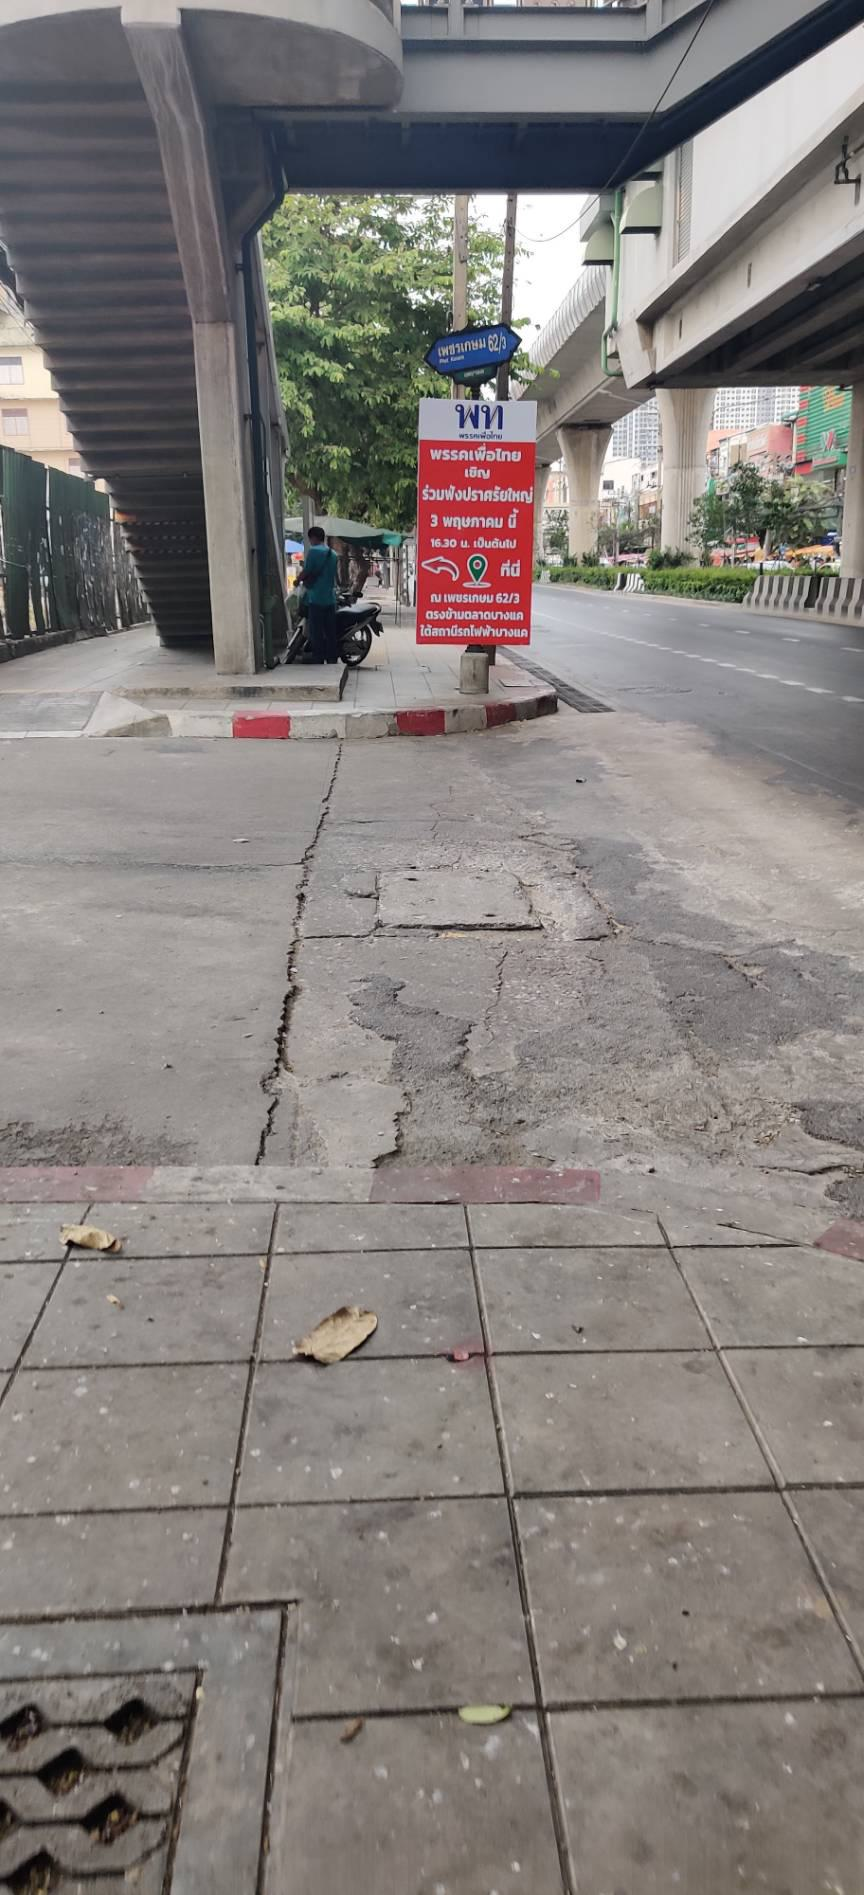Banner: (408, 392, 547, 651)
